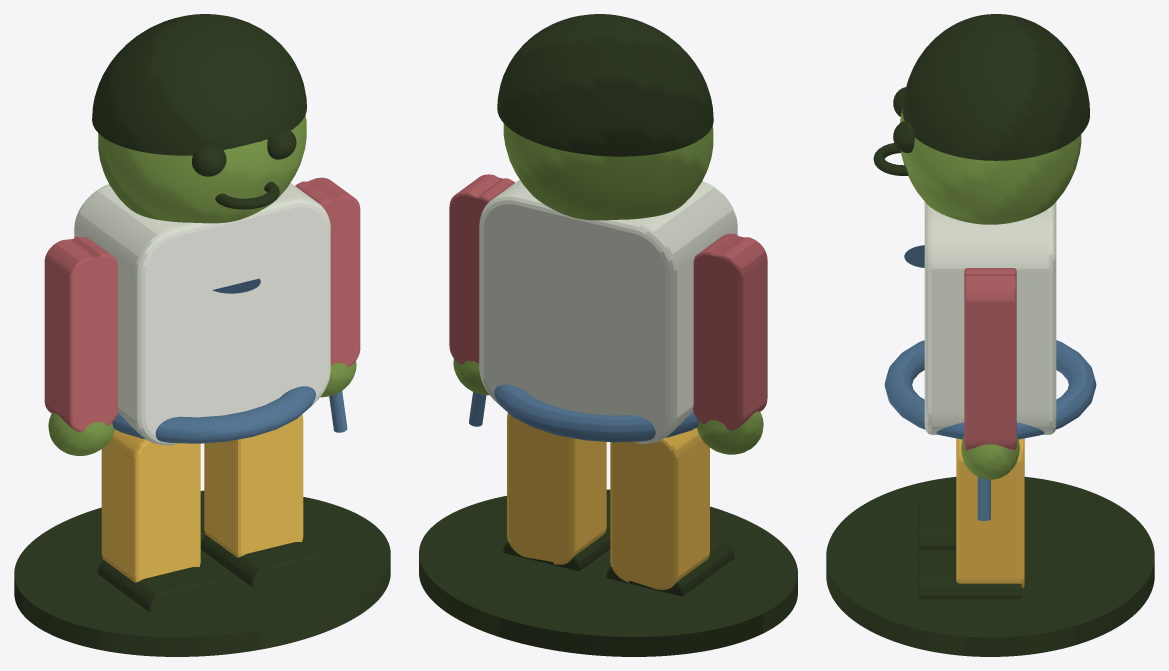
The model's file is 0664_史前人类图鉴_茅草屋.glb.
3 views of the same model, side by side, from view 1: azimuth 30°, elevation 25°; view 2: azimuth 150°, elevation 25°; view 3: azimuth 270°, elevation 25° (orthographic). The views are drawn at different scales.
Visible parts, largest first — view 1: card_0664; view 2: card_0664; view 3: card_0664.
Boxes of the visible parts, box(x1,y1,x2,y2) form: card_0664: box(14, 14, 390, 656); card_0664: box(419, 14, 797, 656); card_0664: box(826, 14, 1154, 656).
Bounding box in the file's own units: 0.6331 × 1 × 0.5408.
